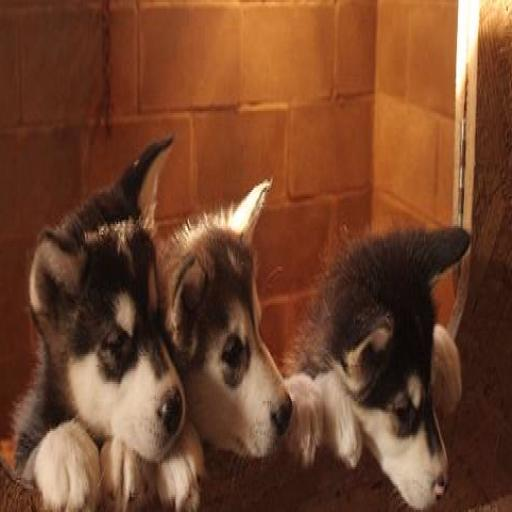dog_face: (36, 153, 182, 464), (324, 213, 474, 512), (167, 175, 296, 459)
